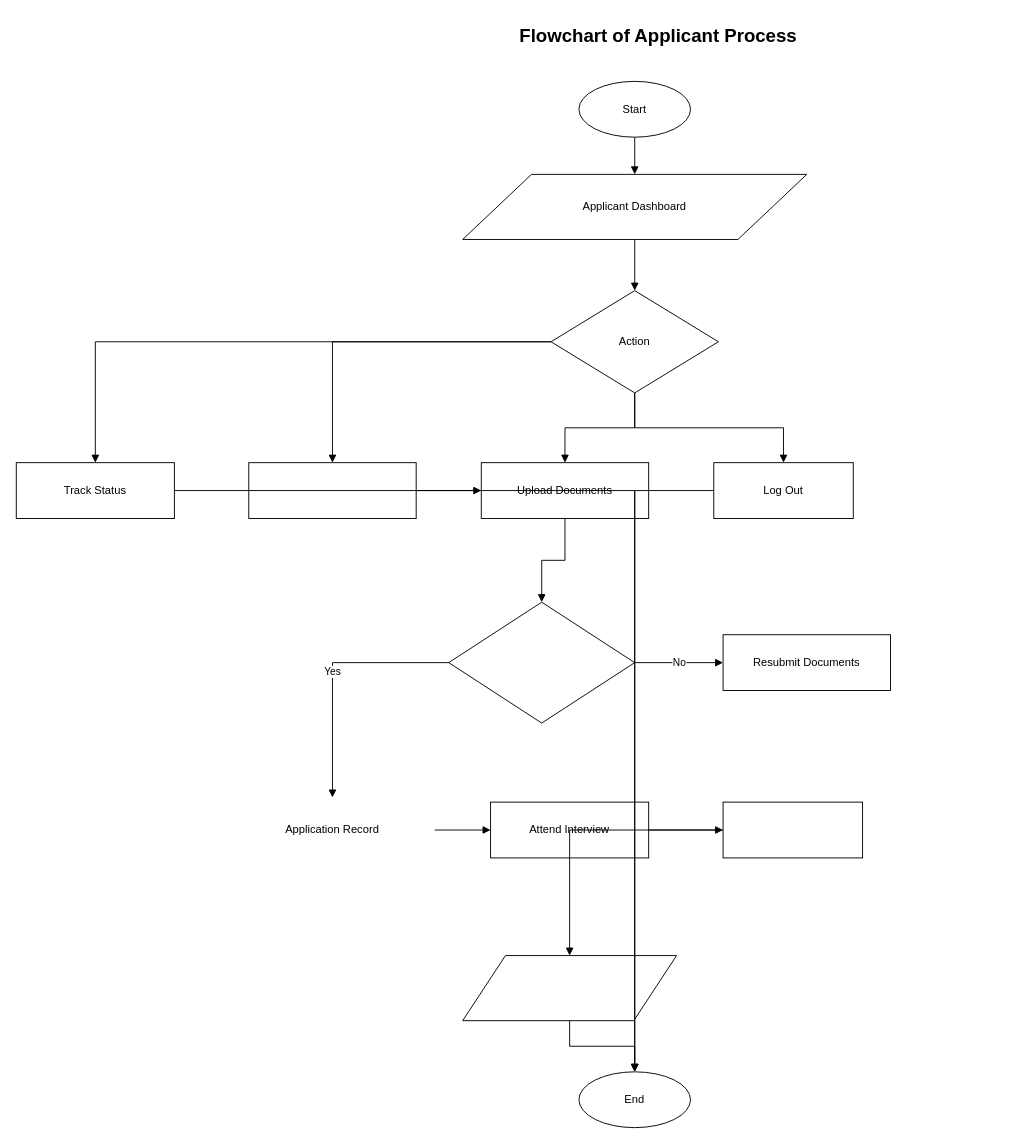
This 1028x1144 diagram has some shape labels left out. The centre of each missing label's shape, as x and y in pixels:
"Claim Payout" goes at point 569,988.
"Documents Complete?" goes at point 541,662.
"Submit Application" goes at point 332,490.
"Upload SOA" goes at point 792,829.
